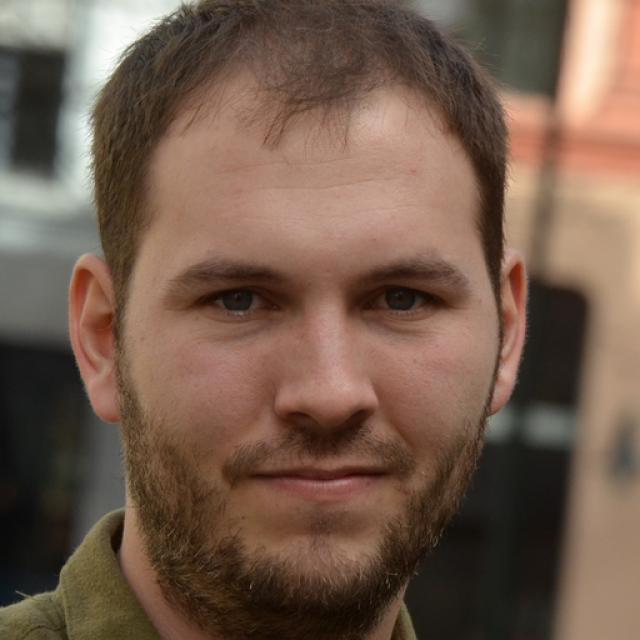Wrinkle: (256, 171, 394, 199), (221, 153, 357, 169)
